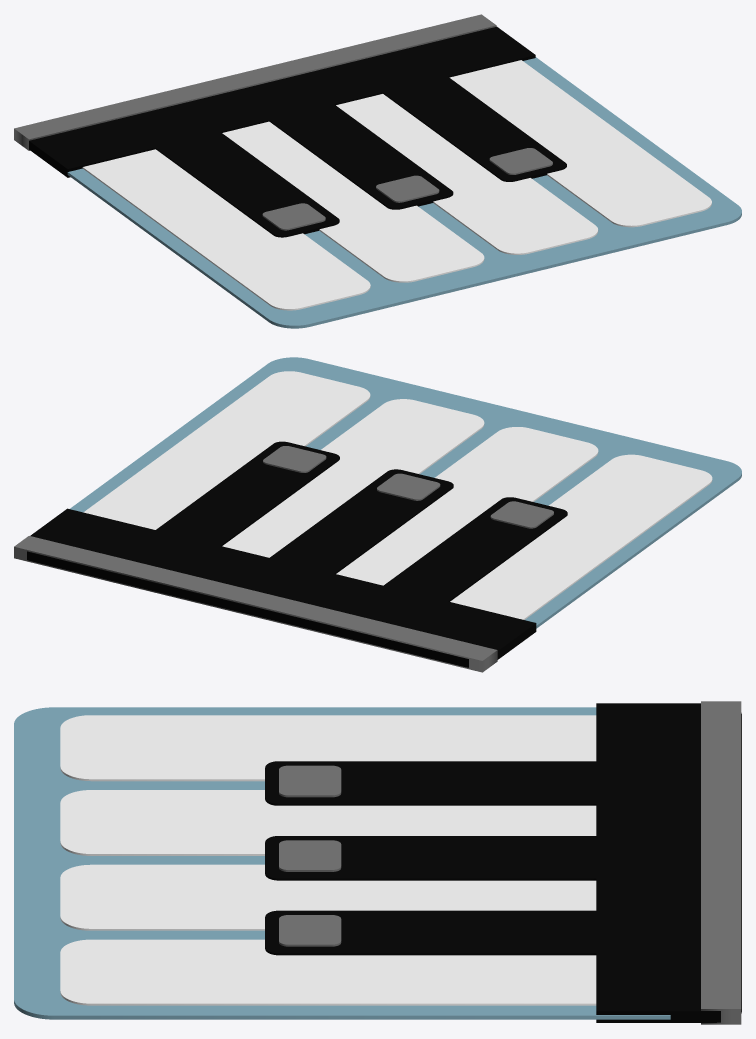
Rendered from emoji_u1f3b9.glb.
3 views of the same model, one above another, from view 1: azimuth 30°, elevation 25°; view 2: azimuth 150°, elevation 25°; view 3: azimuth 270°, elevation 25° (orthographic). The views are drawn at different scales.
Visible parts, largest first — view 1: emoji_u1f3b9; view 2: emoji_u1f3b9; view 3: emoji_u1f3b9.
Boxes of the visible parts, bbox=[...] form: emoji_u1f3b9: bbox=[14, 14, 741, 328]; emoji_u1f3b9: bbox=[14, 357, 741, 672]; emoji_u1f3b9: bbox=[14, 701, 741, 1024].
Size of the model in its own units: 0.0339 by 0.0008 by 0.0338.
